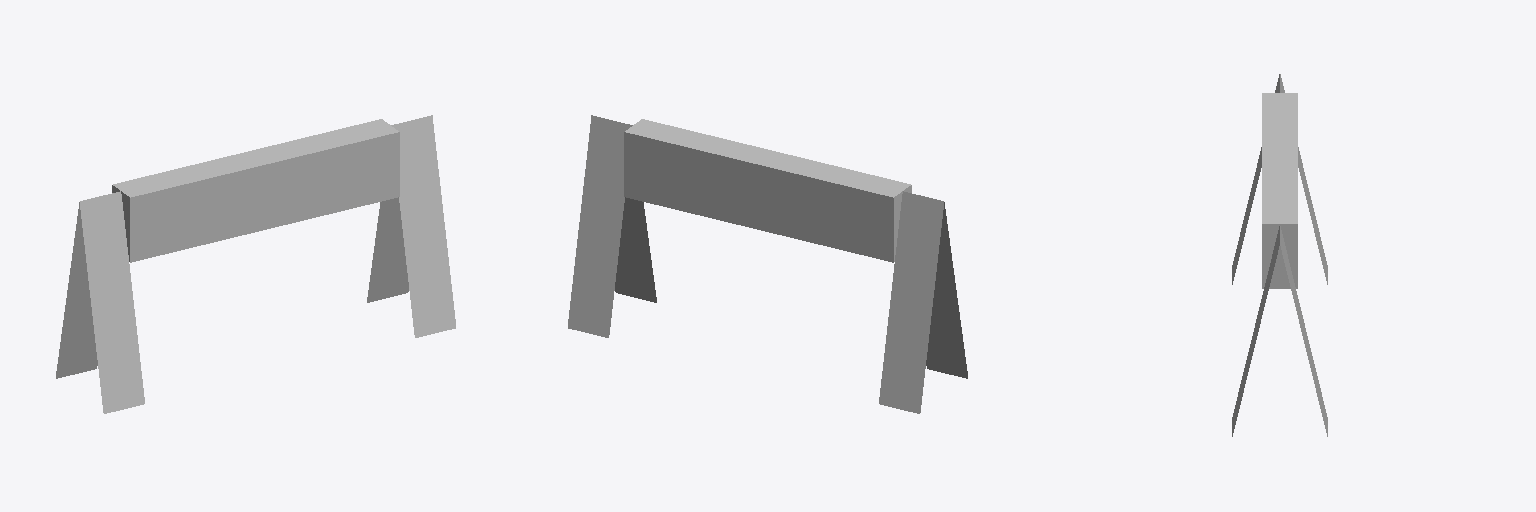
Rendered from detail-barrier-type-b.obj.
3 views of the same model, side by side, from view 1: azimuth 30°, elevation 25°; view 2: azimuth 150°, elevation 25°; view 3: azimuth 270°, elevation 25° (orthographic).
Visible parts, largest first — view 1: detail-barrier-type-b; view 2: detail-barrier-type-b; view 3: detail-barrier-type-b.
Part boxes in pixels (x1,y1,x2,y2): detail-barrier-type-b: (56, 115, 455, 413); detail-barrier-type-b: (568, 115, 967, 413); detail-barrier-type-b: (1232, 74, 1327, 436).
Bounding box in the file's own units: 0.567 × 0.3 × 0.134.